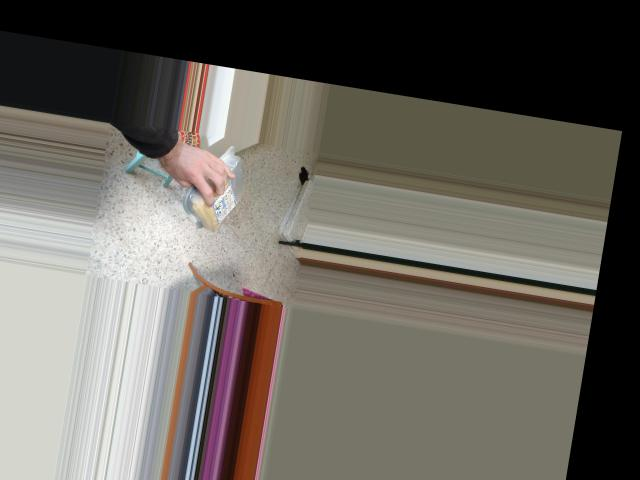cheese: (190, 147, 244, 241)
